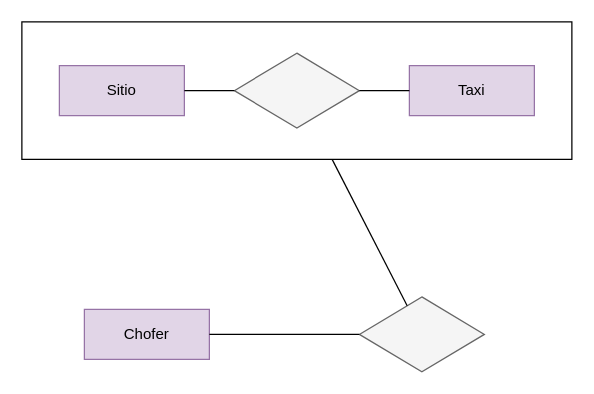
This 594x394 diagram has some shape labels left out. The shapes that lost their labels are listed below. From the top down, each one's centre as x and y in pixels, then its label:
the point at 296,90: Tener
the point at 421,334: Manejar
